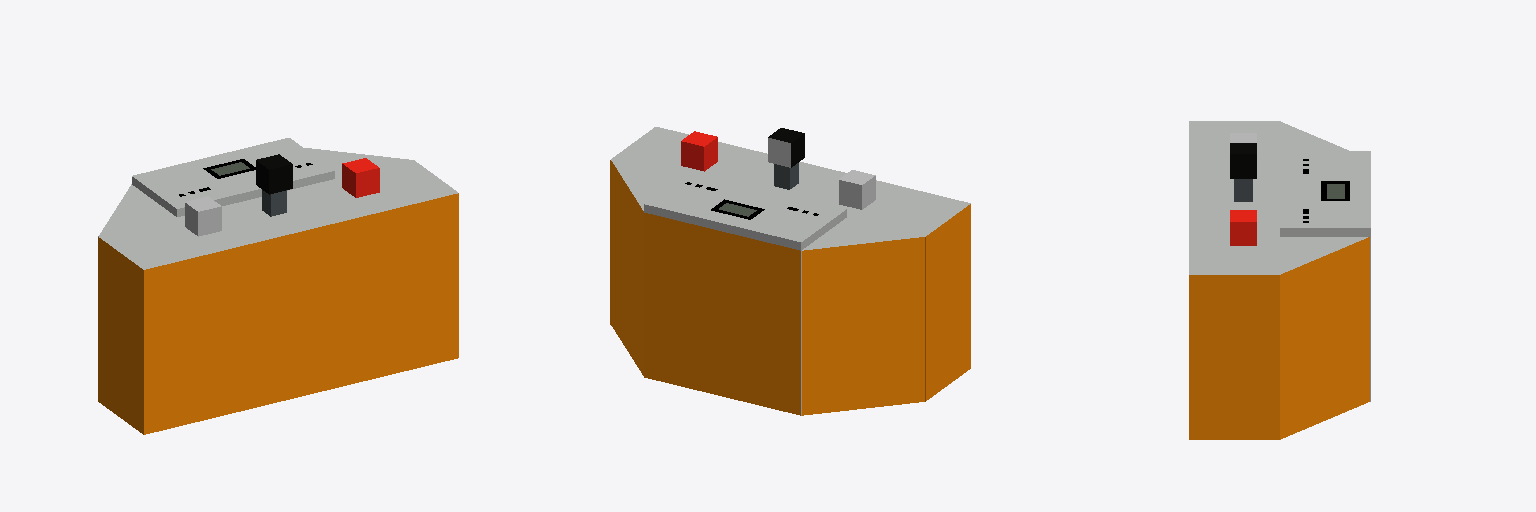
3 views of the same model, side by side, from view 1: azimuth 30°, elevation 25°; view 2: azimuth 150°, elevation 25°; view 3: azimuth 270°, elevation 25° (orthographic).
Parts seen in each view (by area): view 1: cube.008; view 2: cube.008; view 3: cube.008.
Part boxes in pixels (x1,y1,x2,y2): cube.008: (98,138,458,434); cube.008: (610,127,970,415); cube.008: (1189,121,1370,439).
Size of the model in its own units: 0.75 by 0.4875 by 0.375.
5 materials, 3 textured.